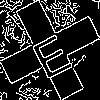E: (25, 25, 75, 81)
